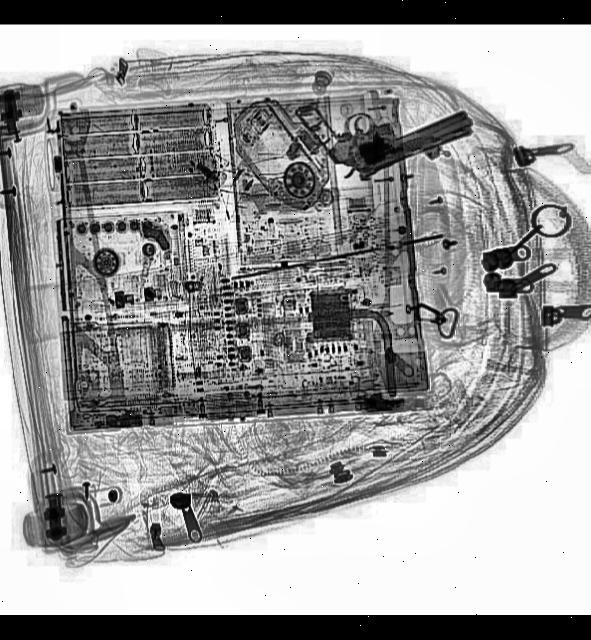Gun: (294, 44, 475, 194)
